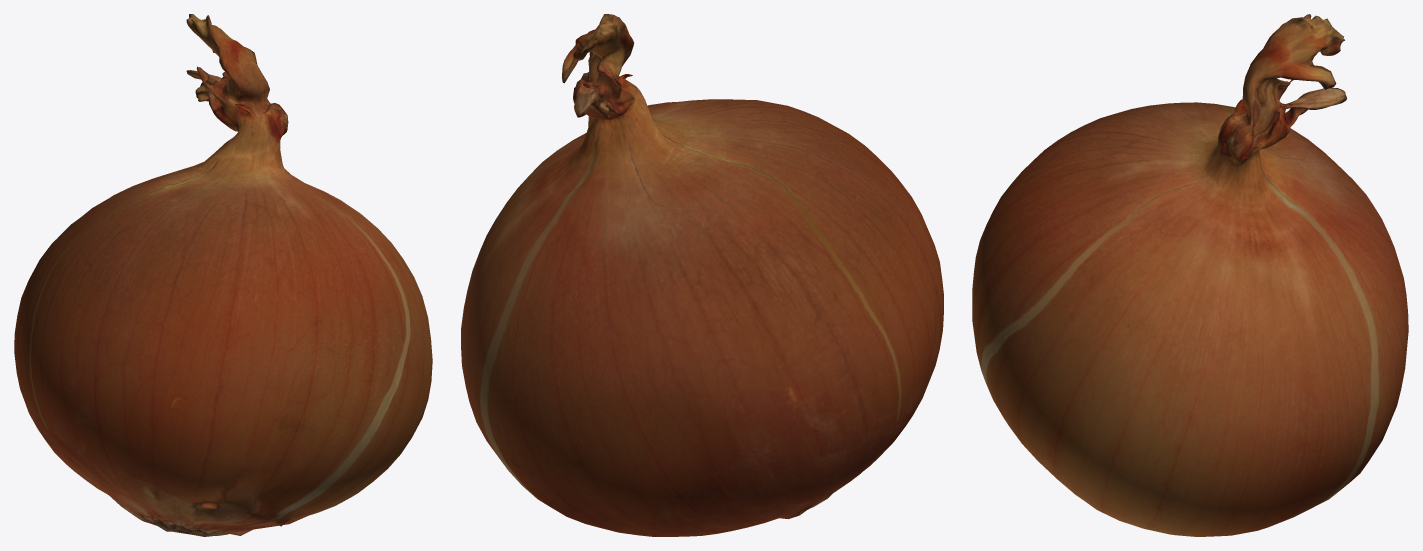
File: yellow_onion_2k.gltf
The picture shows the model from 3 angles, left to right: view 1: azimuth 30°, elevation 25°; view 2: azimuth 150°, elevation 25°; view 3: azimuth 270°, elevation 25°; orthographic projection. The views are drawn at different scales.
Parts seen in each view (by area): view 1: yellow_onion; view 2: yellow_onion; view 3: yellow_onion.
Part boxes in pixels (x1=…): yellow_onion: x1=14, y1=14, x2=432, y2=536; yellow_onion: x1=461, y1=14, x2=943, y2=536; yellow_onion: x1=972, y1=14, x2=1408, y2=536.
Size of the model in its own units: 0.0725 by 0.0864 by 0.0686.
1 material, 1 textured.
